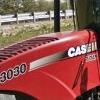Tractor: (0, 22, 100, 100)
